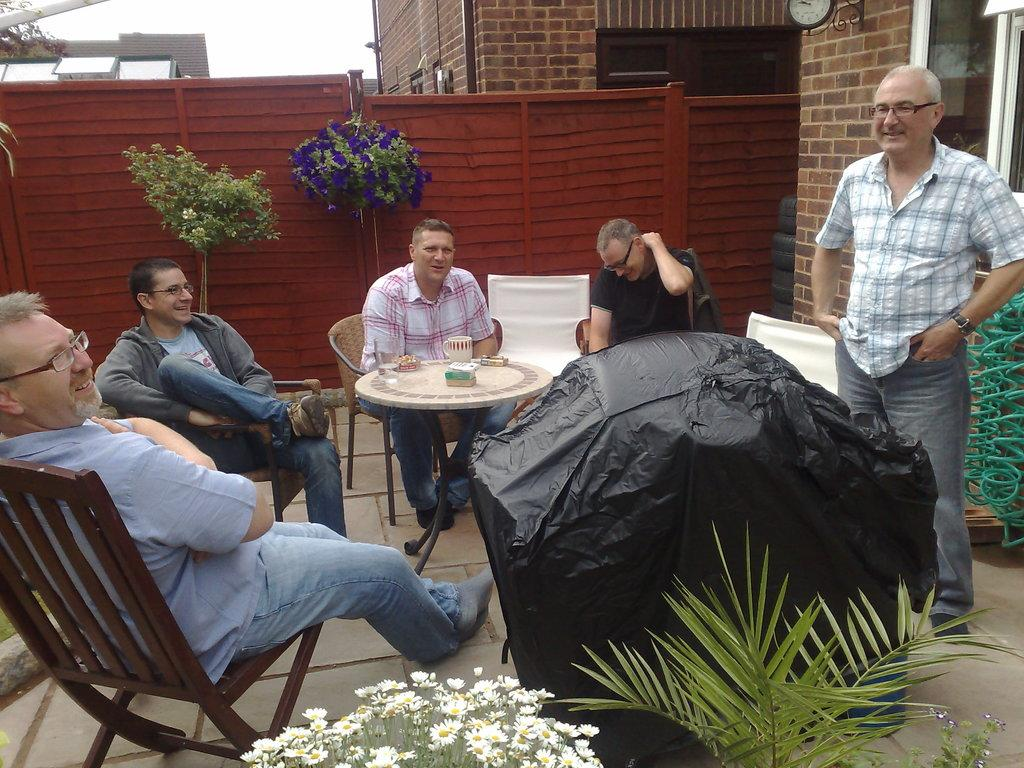Chair: (9, 437, 319, 768), (325, 309, 502, 524), (115, 378, 324, 524)
